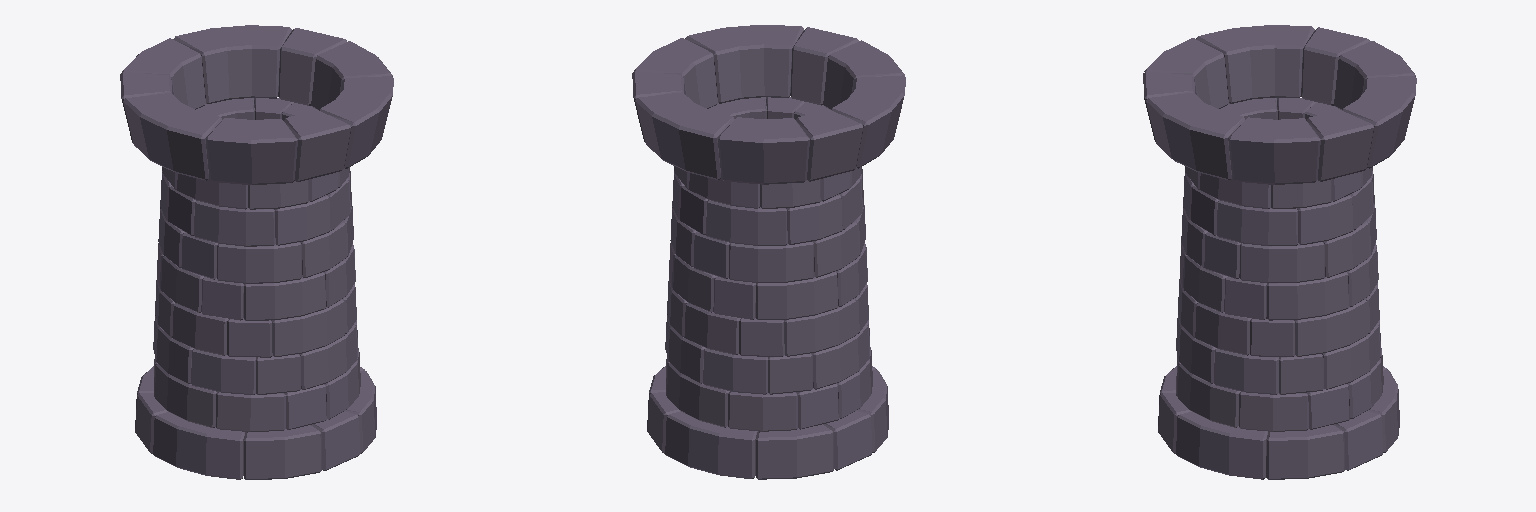
The model's file is tower.obj.
The picture shows the model from 3 angles: view 1: azimuth 30°, elevation 25°; view 2: azimuth 150°, elevation 25°; view 3: azimuth 270°, elevation 25°; orthographic projection.
Visible parts, largest first — view 1: Cube; view 2: Cube; view 3: Cube.
Part boxes in pixels (bbox=[...]): Cube: bbox=[120, 25, 393, 479]; Cube: bbox=[632, 25, 905, 479]; Cube: bbox=[1143, 25, 1416, 479].
Bounding box in the file's own units: 13.88 × 19.21 × 13.72.